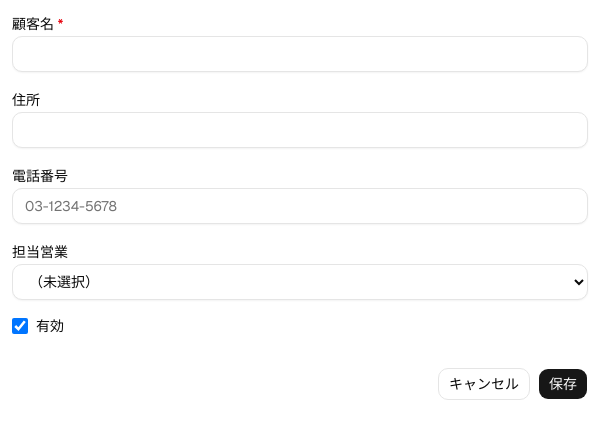
Test case: CustomerForm › 顧客名未入力で保存するとバリデーションエラーが表示される
This screenshot has width=607, height=437.
What coordinates should you click on to do the following:
click the button "保存"
I would click on:
 (563, 384)
Its box is [538,368,588,400].
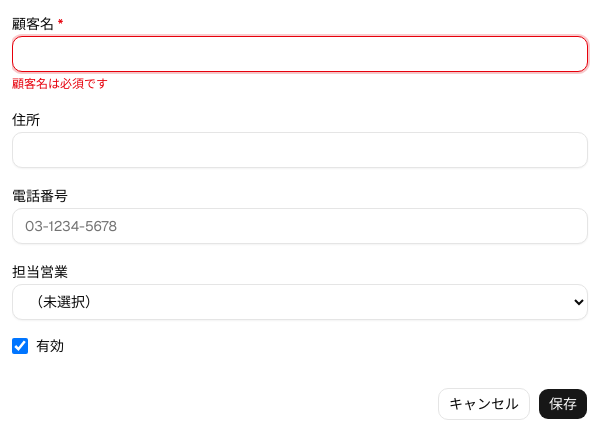
Expected: the text "顧客名は必須です" is shown, [12,76,108,92]
